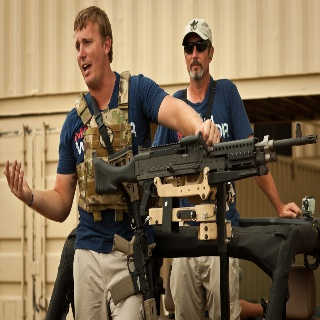rifle: (93, 121, 318, 211)
